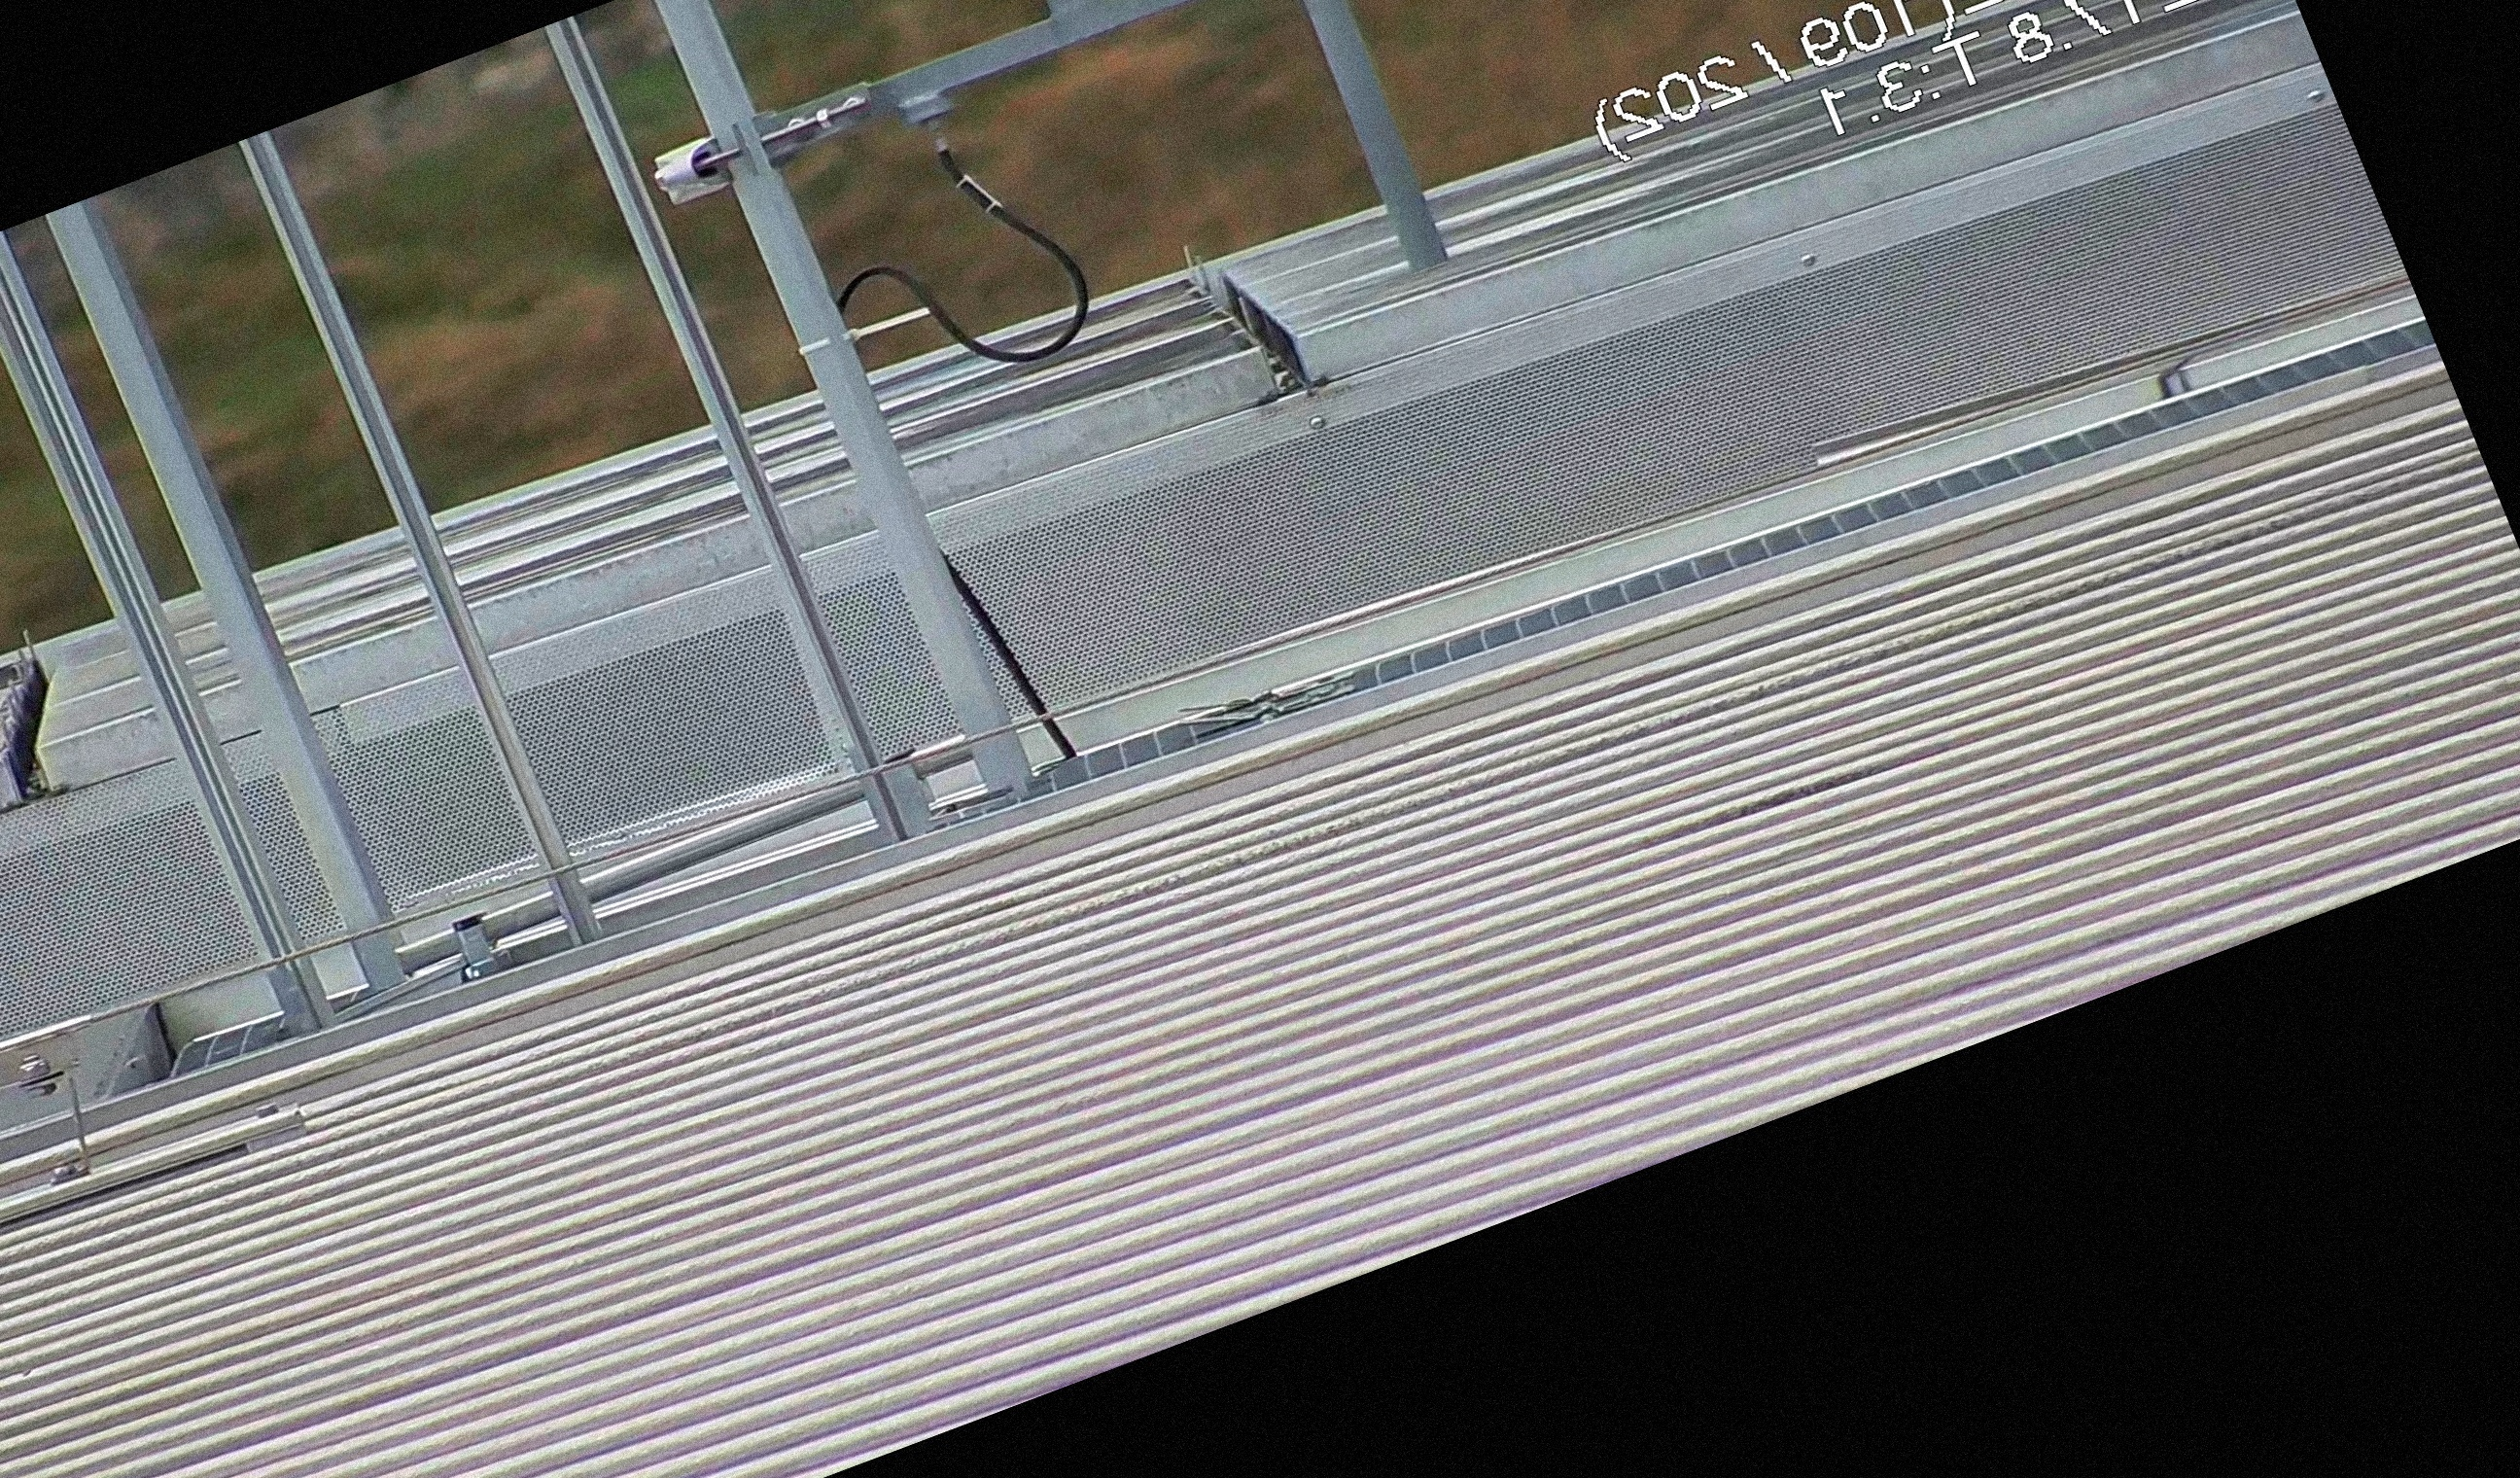Other: (0, 635, 95, 820)
